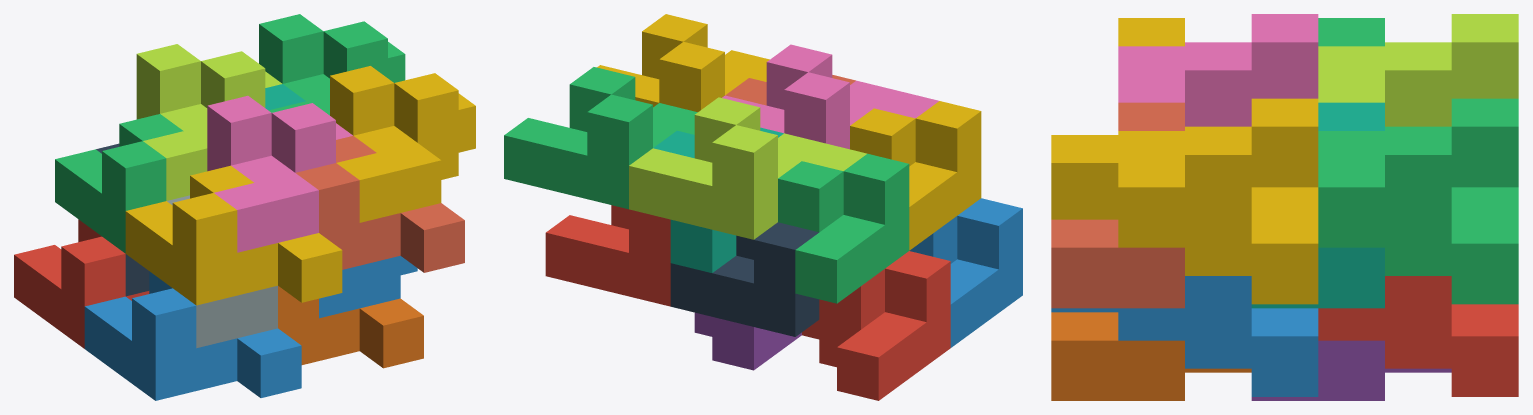
Rendered from tiling.obj.
3 views of the same model, side by side, from view 1: azimuth 30°, elevation 25°; view 2: azimuth 150°, elevation 25°; view 3: azimuth 270°, elevation 25° (orthographic). The views are drawn at different scales.
Visible parts, largest first — view 1: copy_1_domain_4, copy_2_domain_8, copy_1_domain_2, copy_2_domain_4, copy_2_domain_3, copy_1_domain_8, copy_1_domain_3, copy_2_domain_7, copy_1_domain_1, copy_1_domain_6, copy_2_domain_2, copy_2_domain_6 (+2 smaller); view 2: copy_2_domain_3, copy_1_domain_3, copy_2_domain_7, copy_1_domain_1, copy_1_domain_4, copy_2_domain_1, copy_2_domain_5, copy_2_domain_4, copy_1_domain_2, copy_2_domain_8, copy_1_domain_7, copy_1_domain_5 (+1 smaller); view 3: copy_2_domain_7, copy_2_domain_8, copy_2_domain_3, copy_2_domain_4, copy_2_domain_5, copy_2_domain_6, copy_1_domain_8, copy_1_domain_6, copy_1_domain_4, copy_1_domain_7, copy_1_domain_5, copy_1_domain_3.
Boxes of the visible parts, x1,y1,x2,y2 form: copy_1_domain_4: (125,165,342,305); copy_2_domain_8: (330,66,475,222); copy_1_domain_2: (84,271,301,400); copy_2_domain_4: (207,95,352,252); copy_2_domain_3: (136,44,282,200); copy_1_domain_8: (296,135,464,272); copy_1_domain_3: (55,114,183,253); copy_2_domain_7: (259,14,405,115); copy_1_domain_1: (14,219,149,348); copy_1_domain_6: (278,286,423,368); copy_2_domain_2: (167,195,277,348); copy_2_domain_6: (319,256,417,318); copy_2_domain_3: (629,97,866,239); copy_1_domain_3: (778,153,909,303); copy_2_domain_7: (504,67,697,209); copy_1_domain_1: (802,251,950,400); copy_1_domain_4: (850,101,981,250); copy_2_domain_1: (670,222,819,336); copy_2_domain_5: (545,205,670,306); copy_2_domain_4: (722,44,938,149); copy_1_domain_2: (909,198,1022,347); copy_2_domain_8: (597,14,769,112); copy_1_domain_7: (653,127,783,272); copy_1_domain_5: (694,312,801,370); copy_2_domain_7: (1318,98,1518,304); copy_2_domain_8: (1118,98,1318,304); copy_2_domain_3: (1318,14,1518,126); copy_2_domain_4: (1118,14,1318,126); copy_2_domain_5: (1318,276,1518,396); copy_2_domain_6: (1118,276,1318,396); copy_1_domain_8: (1051,102,1184,308); copy_1_domain_6: (1051,312,1251,400); copy_1_domain_4: (1051,18,1184,219); copy_1_domain_7: (1251,102,1384,308); copy_1_domain_5: (1251,340,1451,400); copy_1_domain_3: (1318,18,1384,46).
Bounding box in the file's own units: 9 × 5 × 7.
